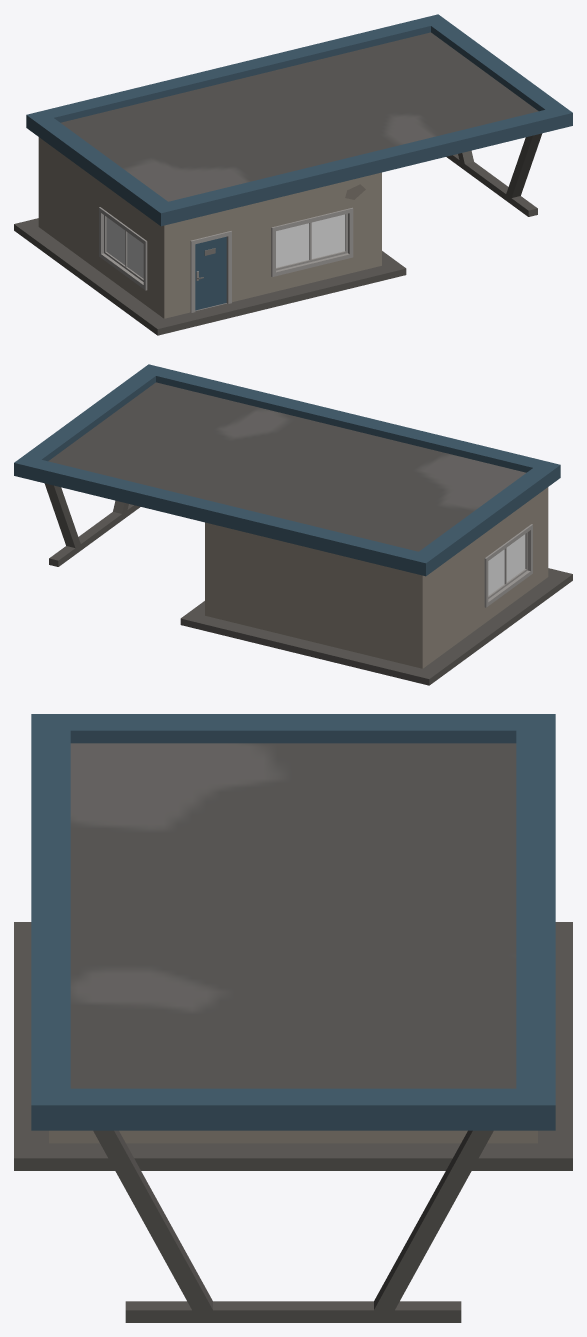
The model's file is SM_Bldg_City_Motel_Entrance_01.fbx.
The picture shows the model from 3 angles, top to bottom: view 1: azimuth 30°, elevation 25°; view 2: azimuth 150°, elevation 25°; view 3: azimuth 270°, elevation 25°; orthographic projection. The views are drawn at different scales.
Parts seen in each view (by area): view 1: SM_Bldg_City_Motel_Entrance_01, SM_Bldg_City_Motel_Entrance_01_Glass, SM_Bldg_City_Motel_Entrance_01_Door; view 2: SM_Bldg_City_Motel_Entrance_01, SM_Bldg_City_Motel_Entrance_01_Glass; view 3: SM_Bldg_City_Motel_Entrance_01.
Part boxes in pixels (left/top/right/bottom): SM_Bldg_City_Motel_Entrance_01: left=14, top=14, right=572, bottom=335; SM_Bldg_City_Motel_Entrance_01_Glass: left=106, top=214, right=345, bottom=278; SM_Bldg_City_Motel_Entrance_01_Door: left=195, top=236, right=226, bottom=310; SM_Bldg_City_Motel_Entrance_01: left=14, top=364, right=572, bottom=685; SM_Bldg_City_Motel_Entrance_01_Glass: left=488, top=534, right=525, bottom=595; SM_Bldg_City_Motel_Entrance_01: left=14, top=714, right=572, bottom=1322.
Size of the model in its own units: 1350 by 360 by 800.
